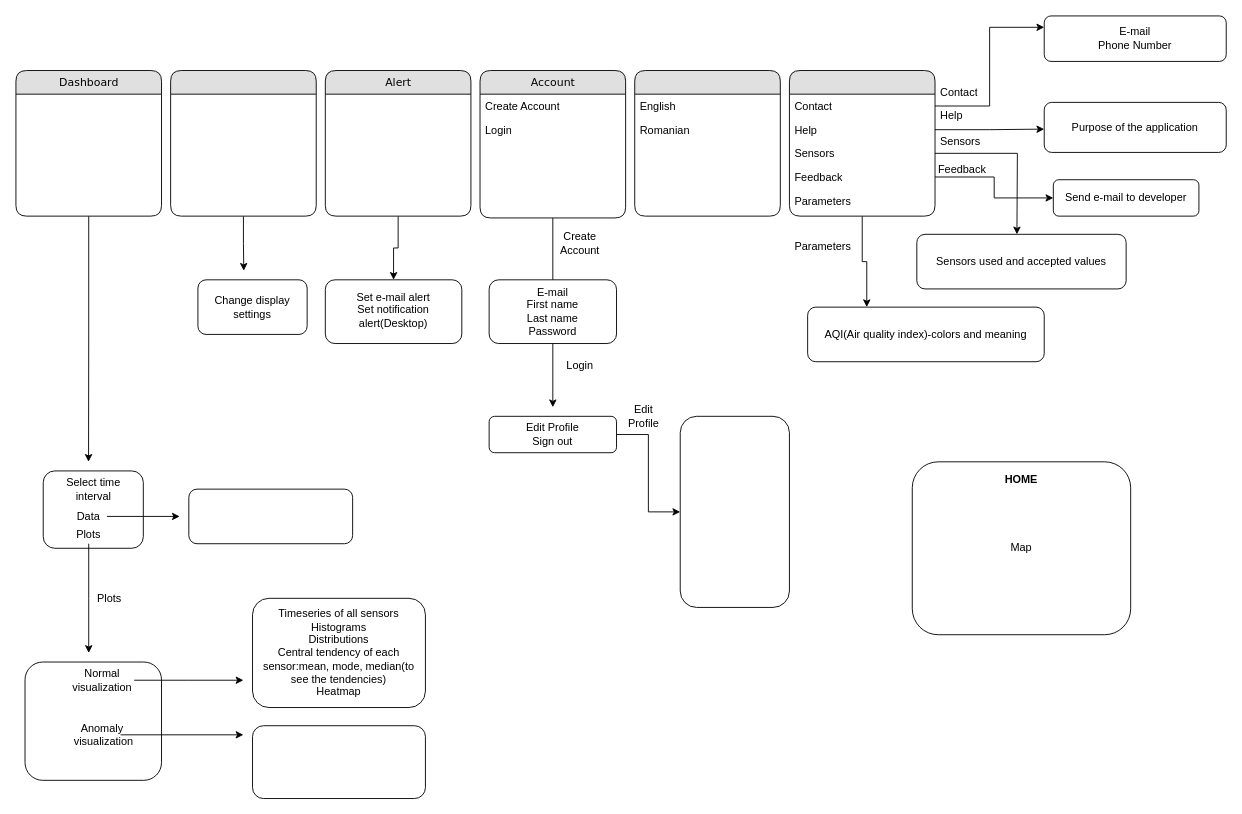
Image size: 1242x814. Some labels were removed from this diagram. Each missing label, with the box of its shape:
About: (789, 70, 935, 216)
Algorithms:... Visual: Box Plot: (252, 725, 425, 799)
Download csv of data + choose which sensors: (188, 488, 353, 544)
E-mail Username First name Last name Password Picture: (679, 415, 789, 607)
Language: (634, 70, 780, 216)
Settings: (170, 70, 316, 216)
